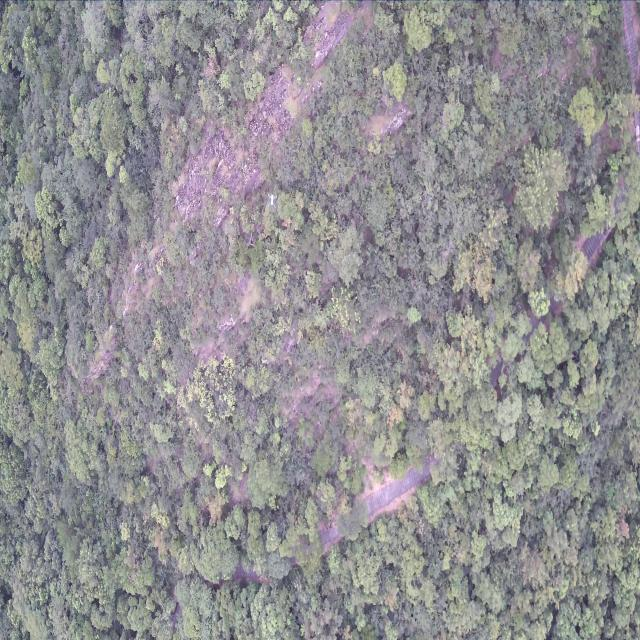UAV: (267, 193, 277, 208)
